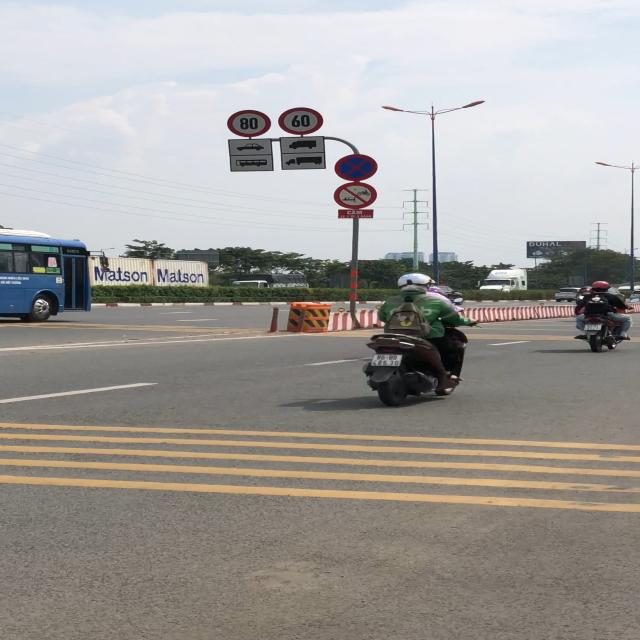Bien bao cam dung xe va do xe: (333, 152, 380, 182)
Bien bao toc do toi da cho phep: (276, 106, 324, 135), (224, 109, 270, 138)
